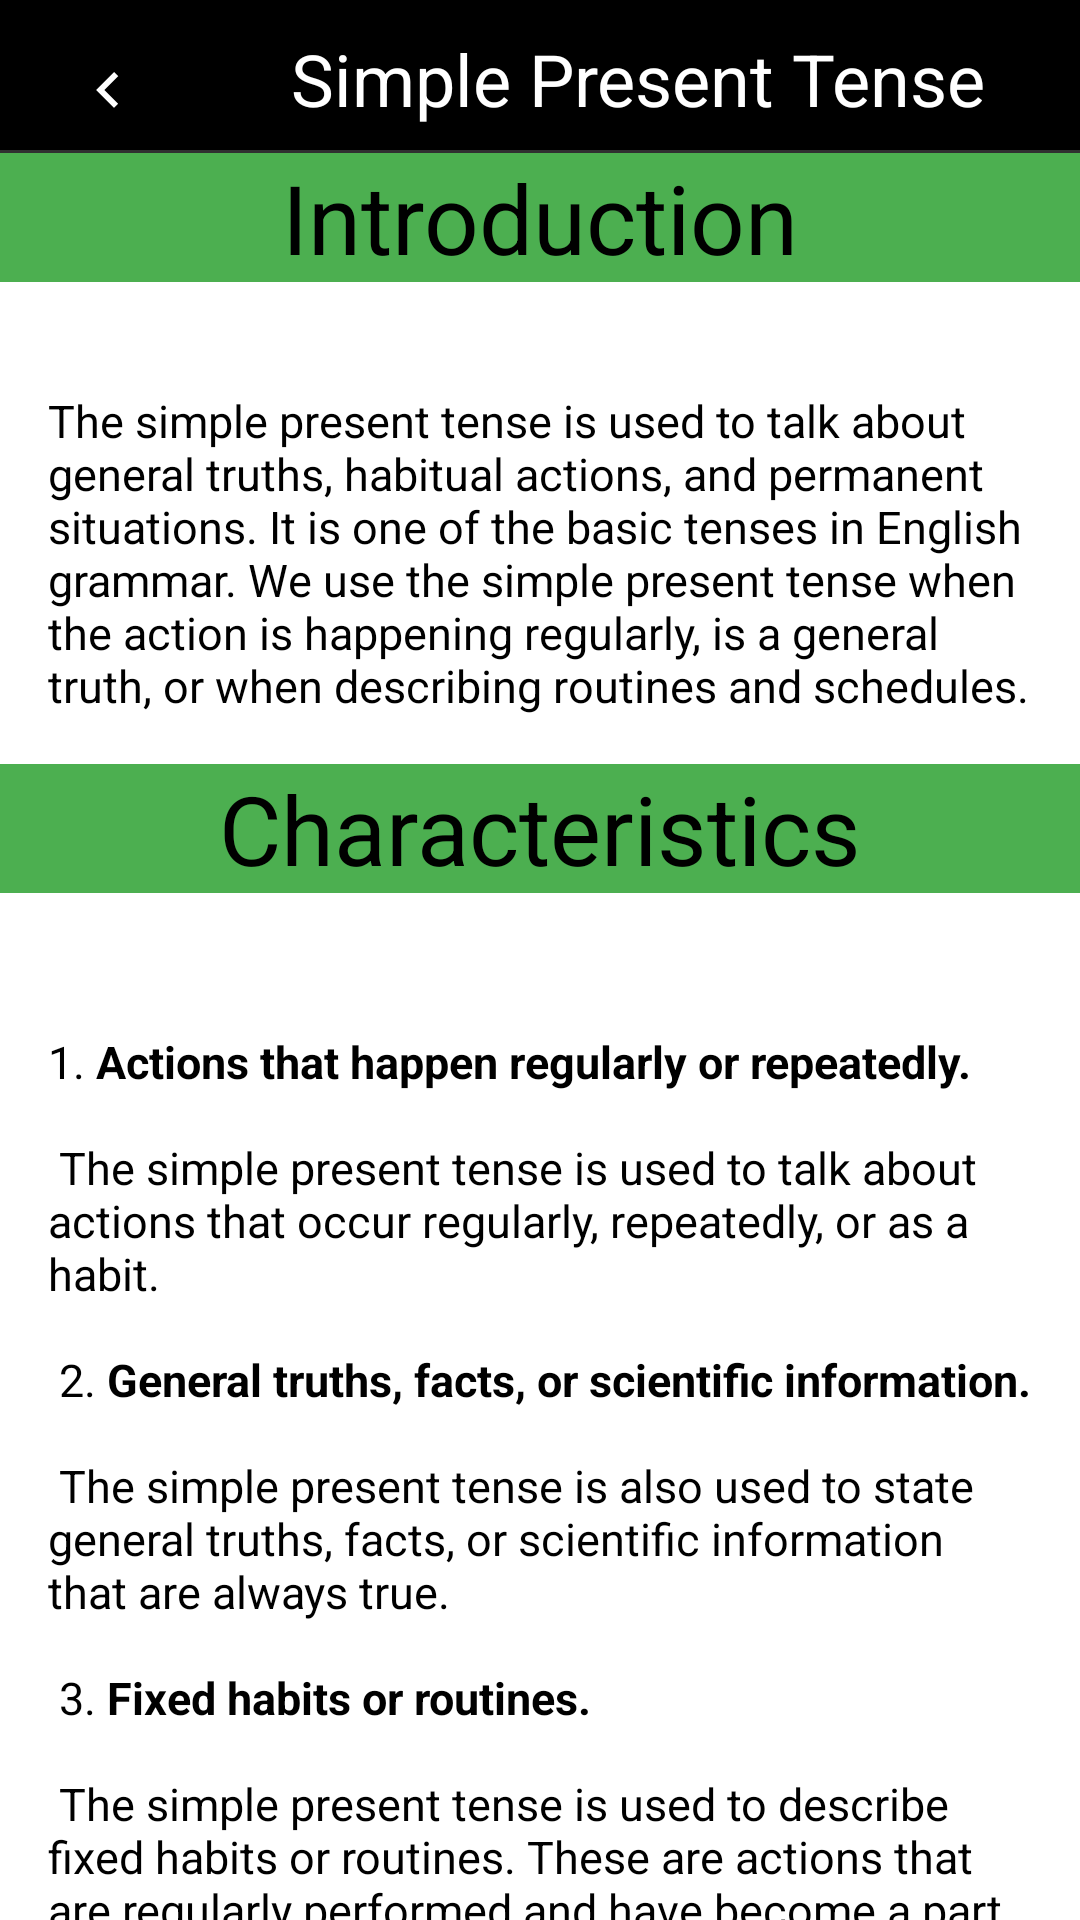

Named icons in this screenshot (1080x1920) and their bounding boxes, (x1, y1, x2, y2):
backbt: (96, 72, 118, 108)
